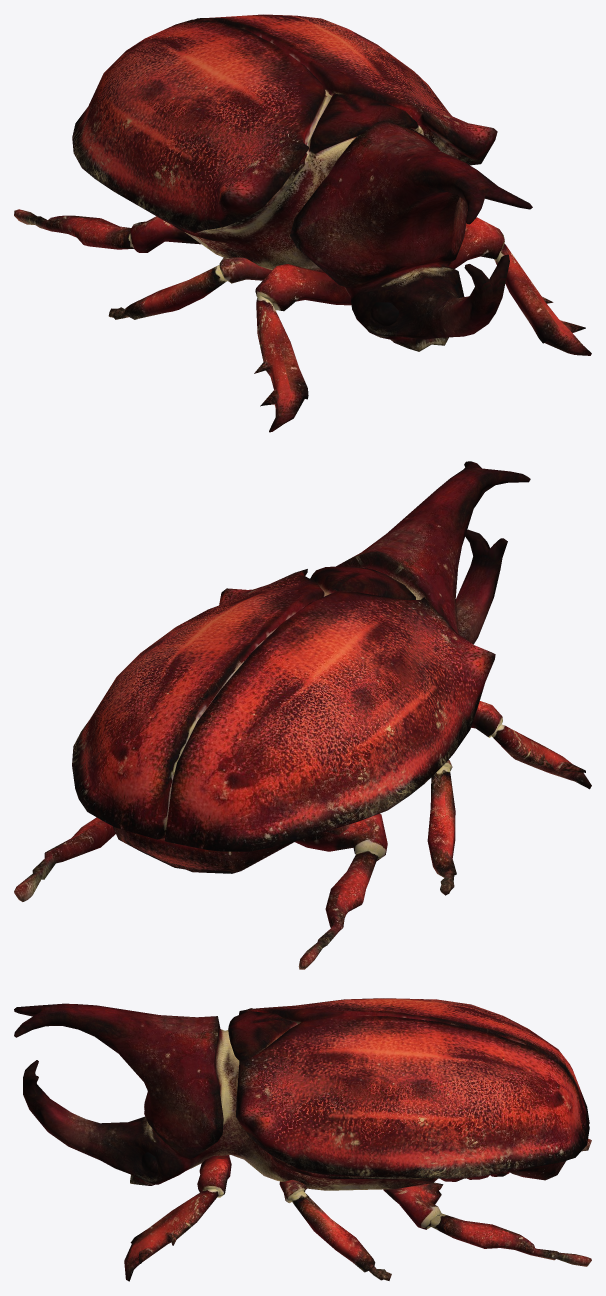
Rendered from raw.glb.
The picture shows the model from 3 angles, top to bottom: view 1: azimuth 30°, elevation 25°; view 2: azimuth 150°, elevation 25°; view 3: azimuth 270°, elevation 25°; orthographic projection. The views are drawn at different scales.
Visible parts, largest first — view 1: cinder_beetle_cinder_beetle; view 2: cinder_beetle_cinder_beetle; view 3: cinder_beetle_cinder_beetle.
Part boxes in pixels (x1,y1,x2,y2): cinder_beetle_cinder_beetle: (14, 14, 591, 432); cinder_beetle_cinder_beetle: (14, 461, 591, 969); cinder_beetle_cinder_beetle: (14, 998, 591, 1281).
Bounding box in the file's own units: 4.35 × 3 × 7.48.
1 material, 1 textured.
